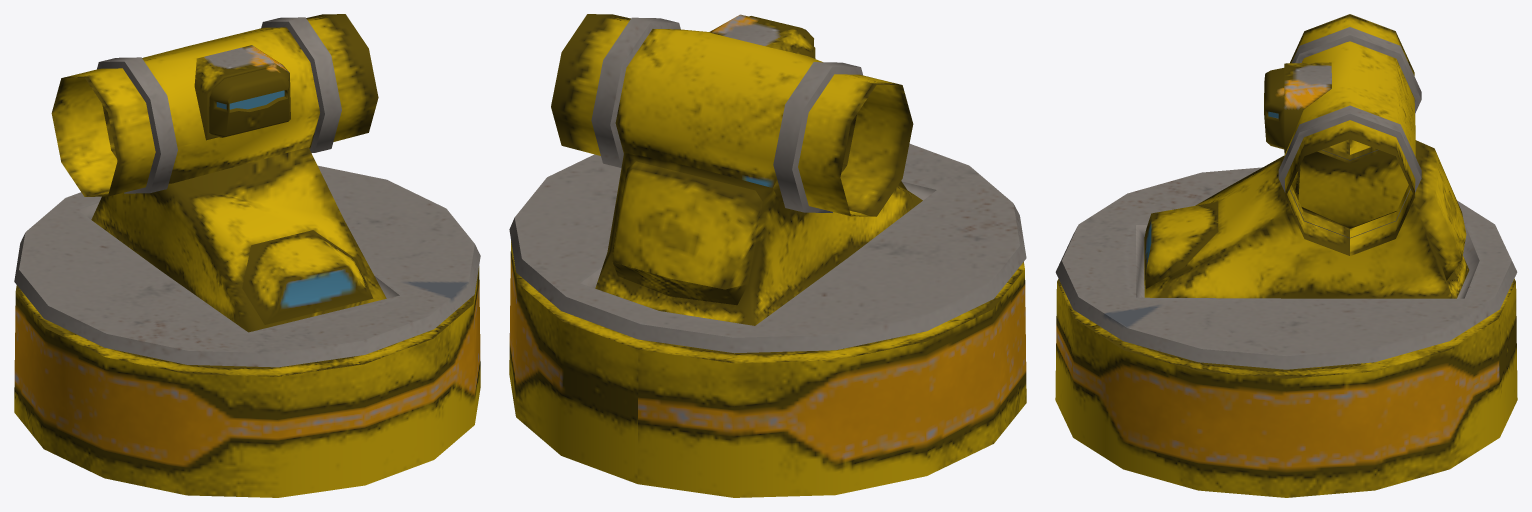
The model's file is Rocket_launcher_handler.fbx.
3 views of the same model, side by side, from view 1: azimuth 30°, elevation 25°; view 2: azimuth 150°, elevation 25°; view 3: azimuth 270°, elevation 25° (orthographic). The views are drawn at different scales.
Parts seen in each view (by area): view 1: Rocket_launcher_handler; view 2: Rocket_launcher_handler; view 3: Rocket_launcher_handler.
Part boxes in pixels (<box>): Rocket_launcher_handler: <box>14,14,480,497</box>; Rocket_launcher_handler: <box>509,14,1026,497</box>; Rocket_launcher_handler: <box>1055,14,1517,497</box>.
Bounding box in the file's own units: 345 × 272 × 345.
